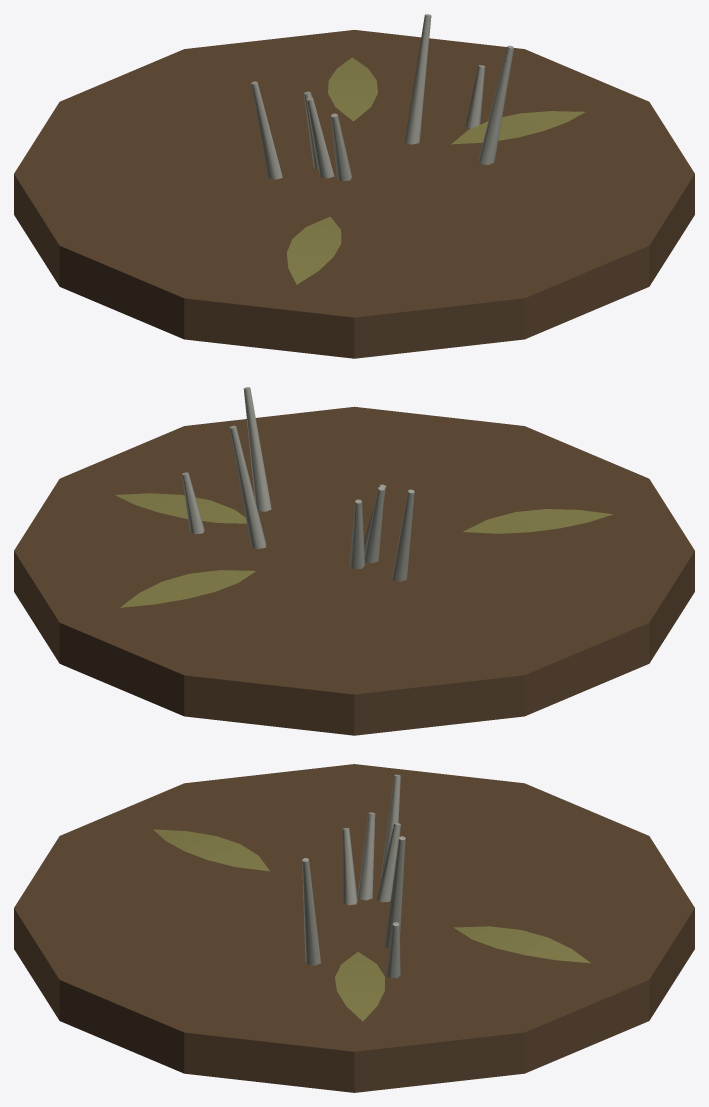
File: nebelkraut-geerntet.glb
3 views of the same model, one above another, from view 1: azimuth 30°, elevation 25°; view 2: azimuth 150°, elevation 25°; view 3: azimuth 270°, elevation 25° (orthographic).
Visible parts, largest first — view 1: nebelkraut; view 2: nebelkraut; view 3: nebelkraut.
Boxes of the visible parts, bbox=[...] form: nebelkraut: bbox=[14, 14, 694, 358]; nebelkraut: bbox=[14, 387, 694, 735]; nebelkraut: bbox=[14, 764, 694, 1092].
Size of the model in its own units: 0.3 by 0.0773 by 0.3.
